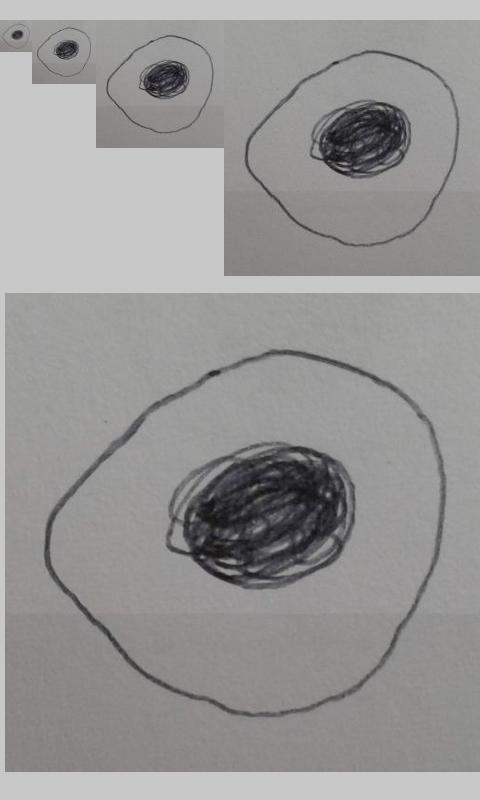radio_button: (41, 345, 448, 719), (243, 48, 462, 248), (105, 34, 215, 135), (36, 26, 92, 78), (1, 22, 31, 50)
